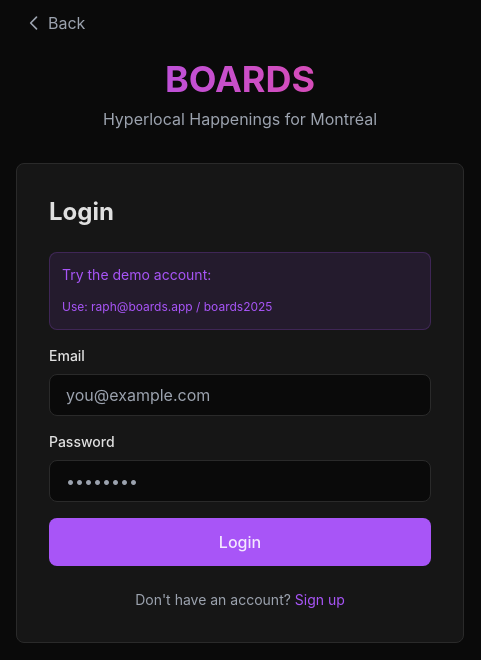
Test case: Login Component › disables submit button during login
In the field labelled "Email": (240, 395) [49,374,431,416], type "test@example.com"
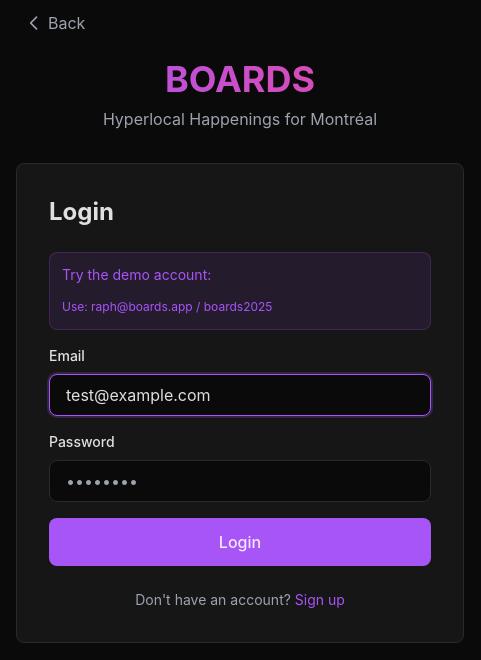
In the password field labelled "Password": (240, 481) [49,460,431,502], type "password123"
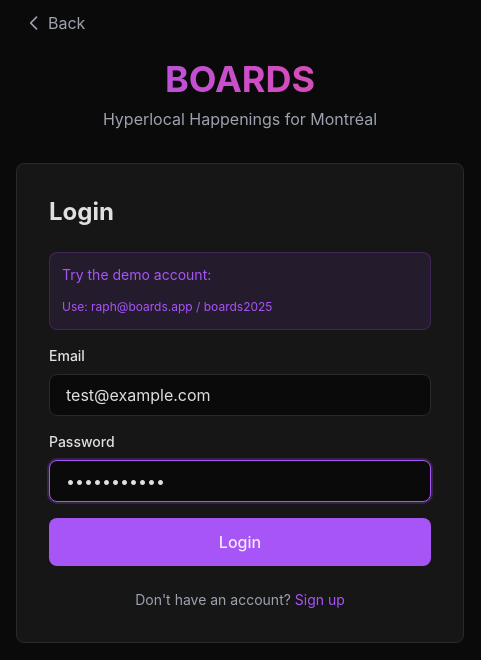
Click the button "Login": (240, 542) [49,518,431,566]
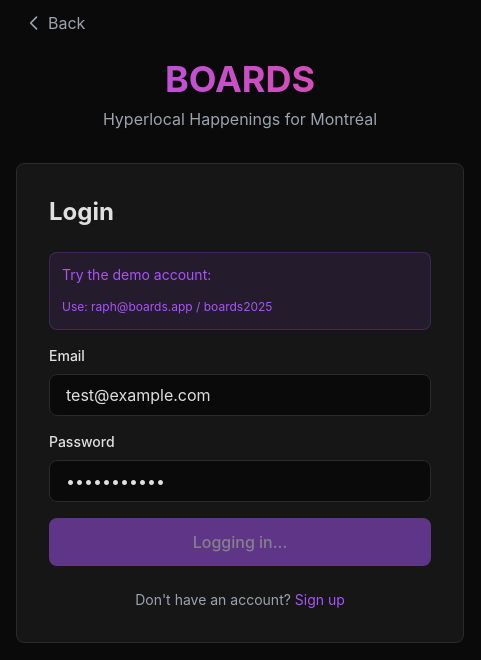
Now the button named "login" is disabled, box [49,518,431,566]
